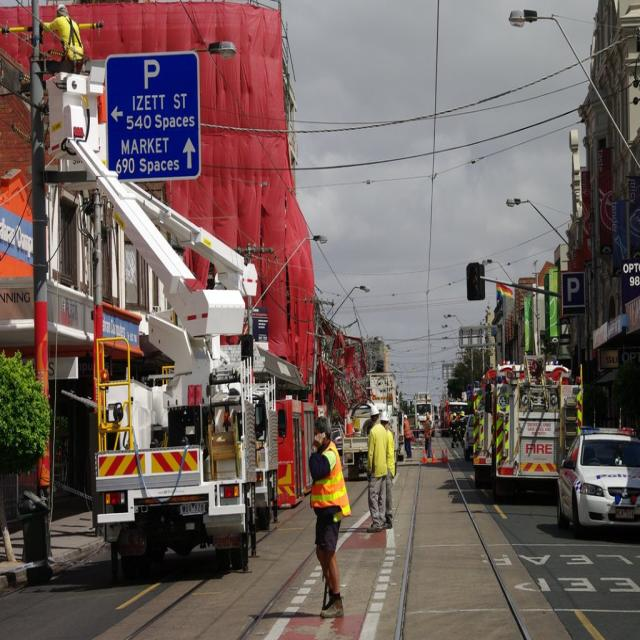Heavy Duty Truck: (87, 265, 282, 591), (489, 350, 585, 506)
Passenger Car: (554, 421, 640, 538)
Pedestrians: (308, 414, 349, 618), (364, 402, 389, 535)
